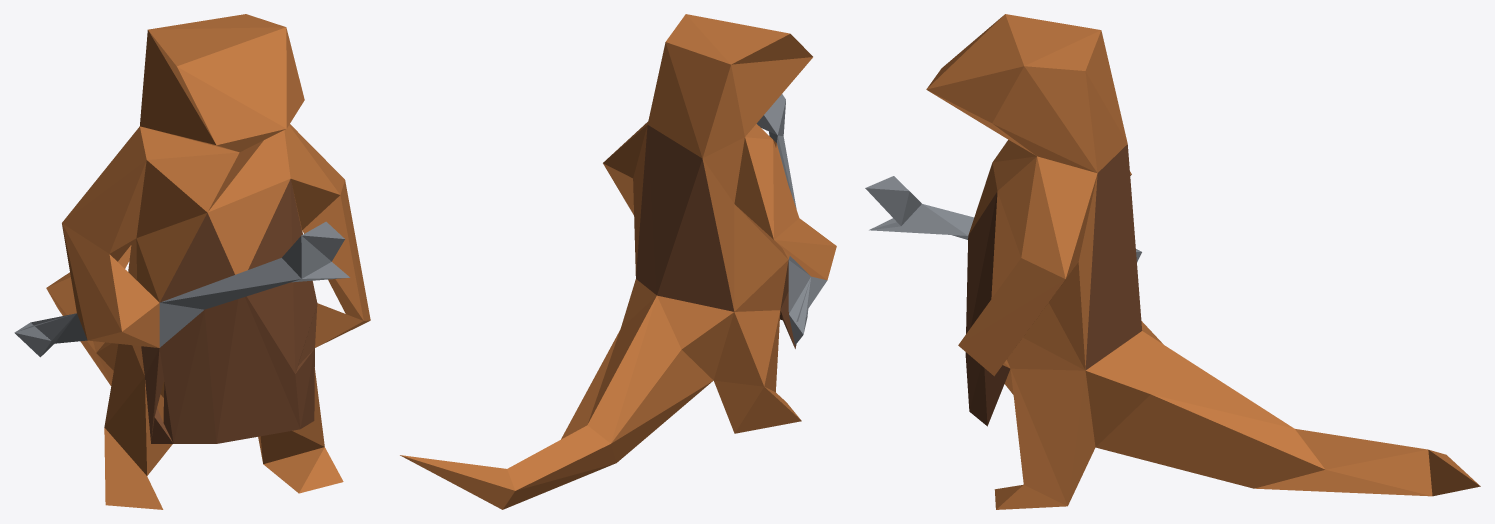
3 renders of one model, left to right at view 1: azimuth 30°, elevation 25°; view 2: azimuth 150°, elevation 25°; view 3: azimuth 270°, elevation 25°, orthographic. The views are drawn at different scales.
Visible parts, largest first — view 1: lion-200; view 2: lion-200; view 3: lion-200.
Boxes of the visible parts, bbox=[...] form: lion-200: bbox=[14, 14, 370, 509]; lion-200: bbox=[400, 14, 836, 509]; lion-200: bbox=[865, 14, 1480, 509].
Bounding box in the file's own units: 0.5271 × 0.7224 × 0.9383.
